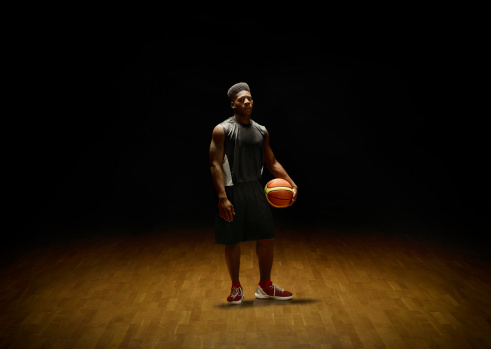em pe: (202, 69, 286, 308)
